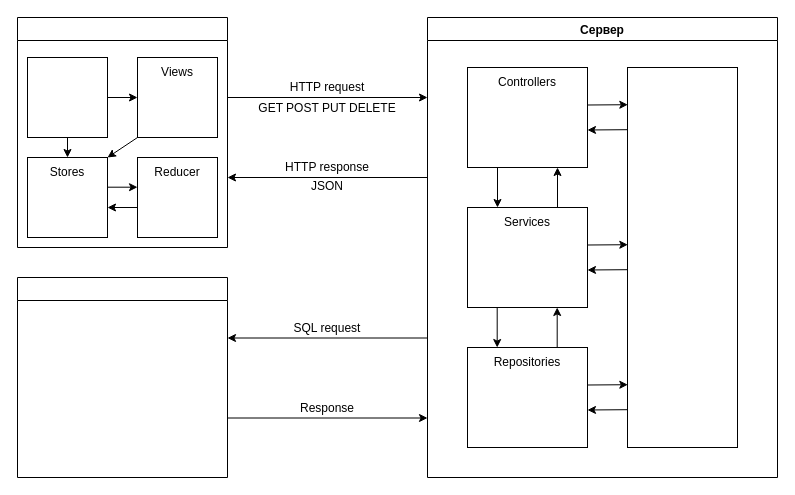
This 795x495 diagram has some shape labels left out. The shapes that lost their labels are listed below. From the top down, each one's box as (x1, y1, x2, y2) in pixels, then its label:
(26, 56, 108, 138): Actions
(16, 16, 228, 248): Клиент - веб-браузер
(626, 66, 738, 448): Models
(16, 276, 228, 478): PostgreSQL
